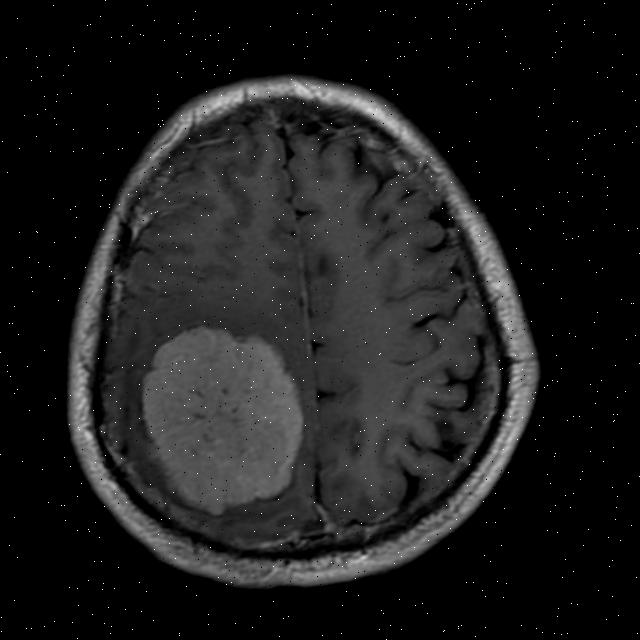Meningioma: (118, 301, 328, 532)
